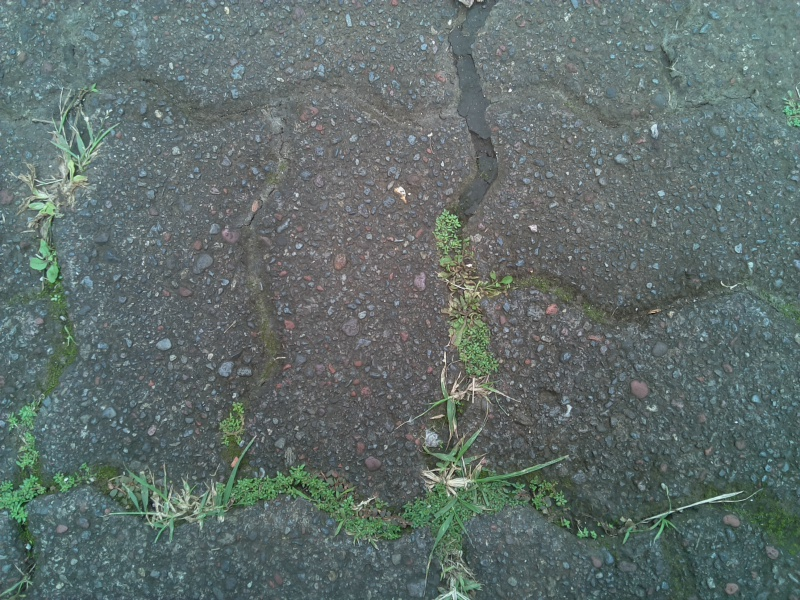Weed: (232, 470, 421, 544), (26, 109, 91, 315), (117, 466, 241, 532), (418, 440, 506, 522), (4, 403, 53, 530), (442, 291, 499, 382), (421, 211, 478, 286), (428, 527, 482, 600), (622, 496, 693, 544), (508, 472, 567, 518), (217, 402, 246, 442)
